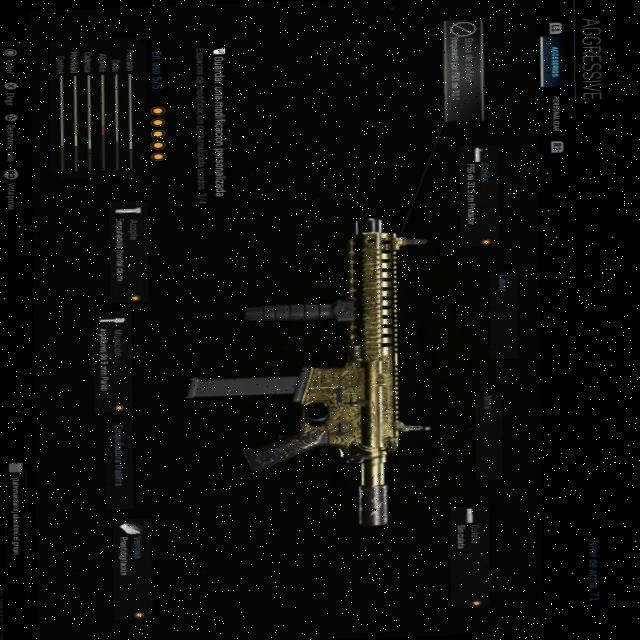firearm: (172, 215, 441, 533)
